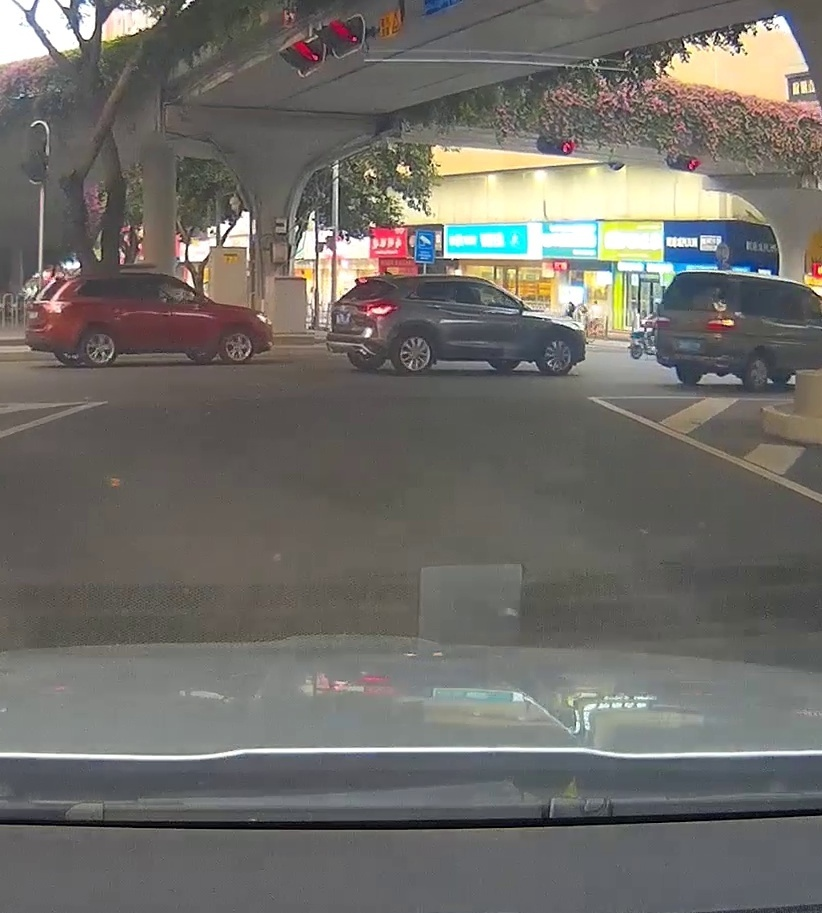L_light: (655, 317, 670, 327)
R_light: (707, 318, 734, 330)
T_light: (700, 272, 712, 277)
day-right: (655, 269, 738, 391)
